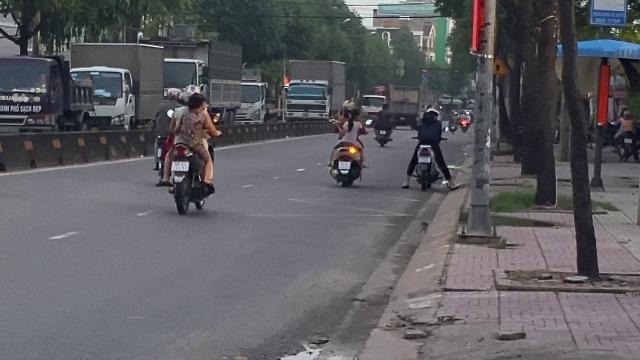helmet: (184, 84, 200, 96)
licenseplate: (172, 161, 188, 171)
motorcyclist: (153, 82, 219, 214)
nohelmet: (187, 92, 206, 112)
